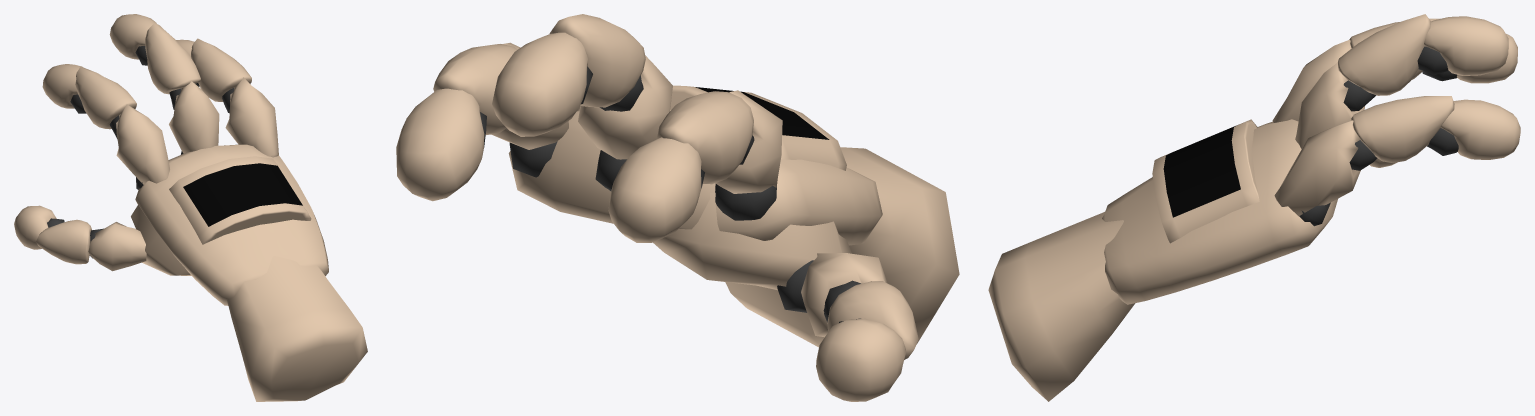
Rendered from Hand.fbx.
3 views of the same model, side by side, from view 1: azimuth 30°, elevation 25°; view 2: azimuth 150°, elevation 25°; view 3: azimuth 270°, elevation 25° (orthographic). The views are drawn at different scales.
Visible parts, largest first — view 1: Palm, Wrist, Pointer_01 (×2), Pointer_02 (×2), Index_01, Middle_01, Middle_02, Pointer_03 (×2), Index_02, Middle_03; view 2: Palm, Pointer_03 (×2), Wrist, Pointer_02 (×2), Index_03, Middle_03, Pointer_01 (×2), Middle_02, Middle_01, Index_02, PointerFinger, IndexFinger (+4 smaller); view 3: Palm, Wrist, Index_01, Index_02, Middle_02, Middle_03, Index_03, Middle_01, Pointer_01, conect_02 (×2), conect_01 (×2), Pointer_03.
Part boxes in pixels (left/top/right/bottom): Palm: left=131, top=144, right=328, bottom=305; Wrist: left=227, top=256, right=367, bottom=401; Pointer_01 (×2): left=88, top=104, right=169, bottom=271; Pointer_02 (×2): left=36, top=67, right=136, bottom=264; Index_01: left=225, top=77, right=278, bottom=157; Middle_01: left=169, top=81, right=219, bottom=153; Middle_02: left=145, top=23, right=200, bottom=94; Pointer_03 (×2): left=14, top=64, right=83, bottom=249; Index_02: left=191, top=38, right=251, bottom=101; Middle_03: left=109, top=14, right=156, bottom=59; Palm: left=508, top=85, right=882, bottom=290; Pointer_03 (×2): left=608, top=137, right=905, bottom=401; Wrist: left=725, top=147, right=959, bottom=347; Pointer_02 (×2): left=657, top=91, right=918, bottom=359; Index_03: left=396, top=88, right=484, bottom=201; Middle_03: left=492, top=32, right=587, bottom=136; Pointer_01 (×2): left=715, top=90, right=887, bottom=337; Middle_02: left=549, top=14, right=645, bottom=107; Middle_01: left=578, top=55, right=672, bottom=159; Index_02: left=433, top=44, right=517, bottom=134; PointerFinger: left=715, top=184, right=776, bottom=220; IndexFinger: left=509, top=141, right=557, bottom=177; Palm: left=1102, top=119, right=1337, bottom=304; Wrist: left=988, top=212, right=1135, bottom=401; Index_01: left=1274, top=120, right=1360, bottom=216; Index_02: left=1351, top=96, right=1454, bottom=162; Middle_02: left=1337, top=14, right=1431, bottom=95; Middle_03: left=1424, top=16, right=1508, bottom=75; Index_03: left=1440, top=99, right=1520, bottom=159; Middle_01: left=1295, top=63, right=1364, bottom=148; Pointer_01: left=1272, top=40, right=1351, bottom=122; conect_02 (×2): left=1417, top=46, right=1458, bottom=155; conect_01 (×2): left=1343, top=80, right=1377, bottom=170; Pointer_03: left=1457, top=34, right=1517, bottom=83.
Size of the model in its own units: 44.23 by 49.94 by 65.11.
